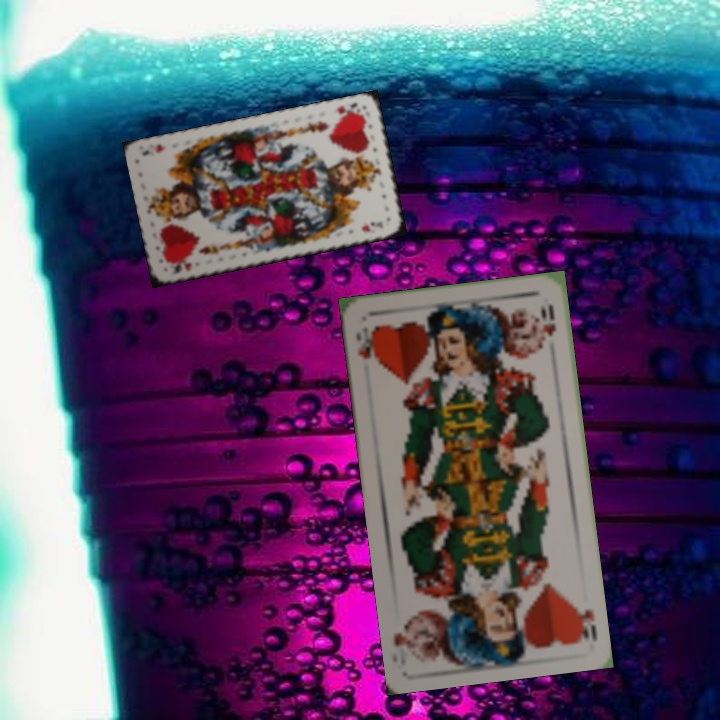HK: (332, 99, 365, 121), (168, 258, 195, 276)
HO: (570, 598, 600, 643), (352, 321, 380, 362)
